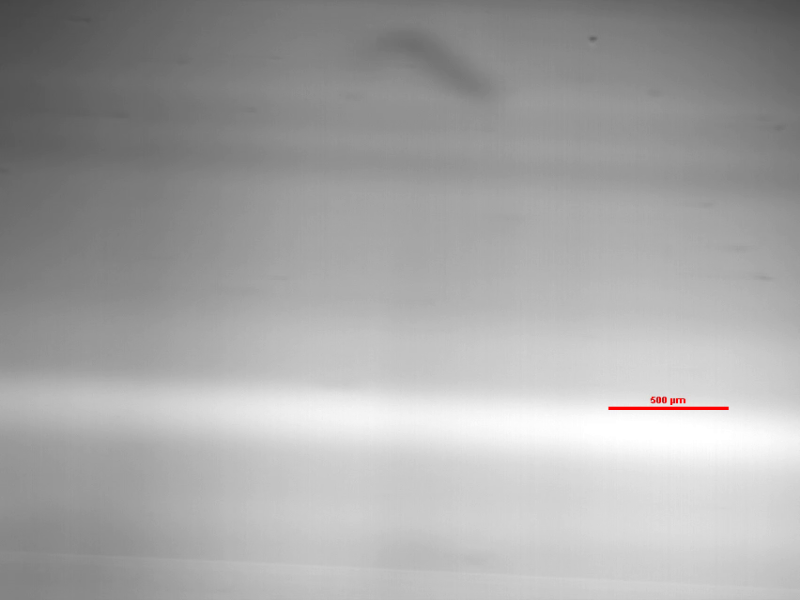fiber: (370, 24, 511, 101)
size: (608, 394, 729, 415)
